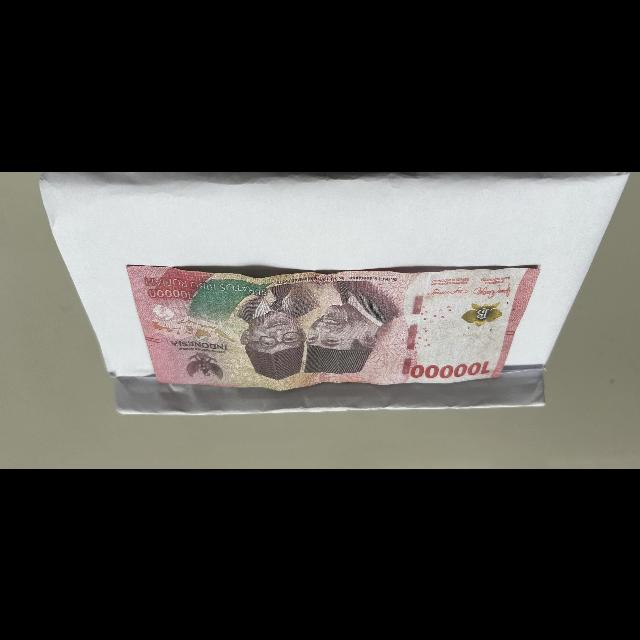Palsu-100k: (123, 262, 543, 397)
Tinta-Palsu-100k: (459, 300, 507, 328)
